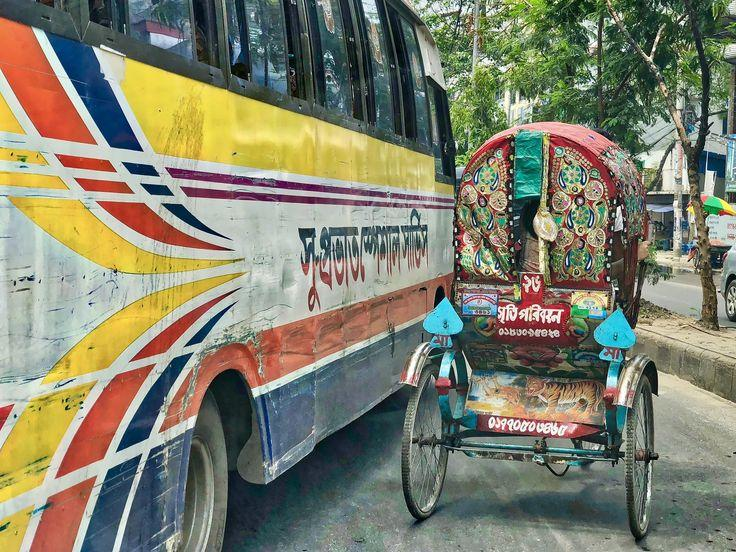Rickshaw: (401, 123, 657, 537)
